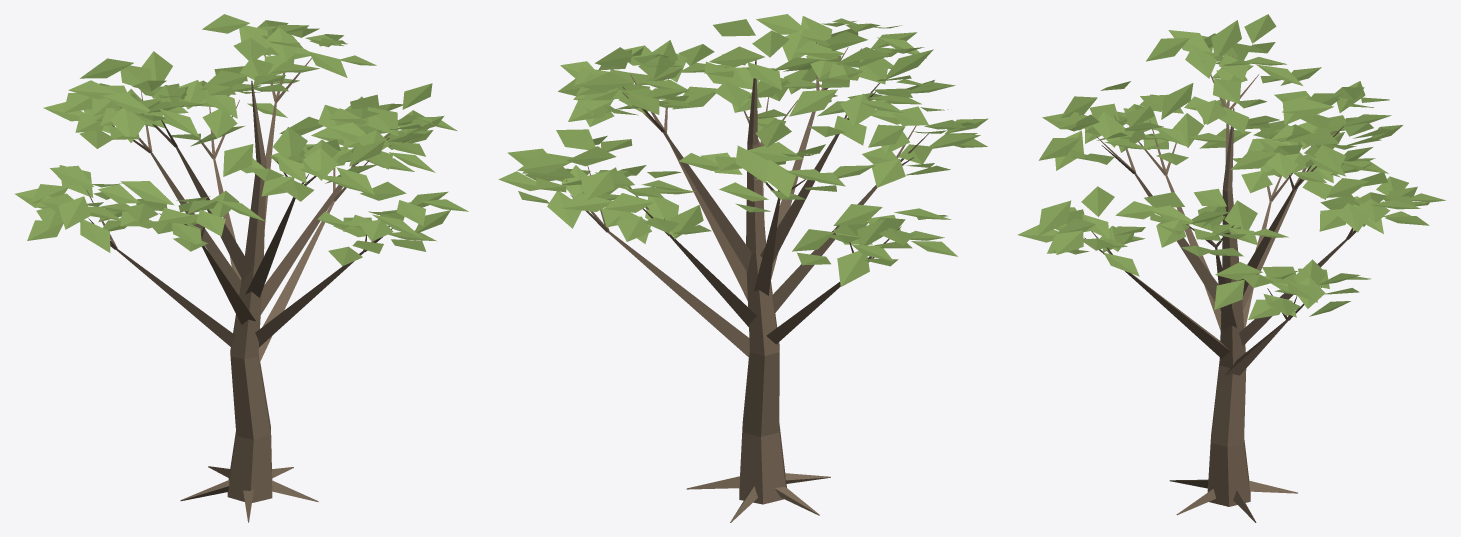
File: oak-lod1.glb
The picture shows the model from 3 angles, left to right: view 1: azimuth 30°, elevation 25°; view 2: azimuth 150°, elevation 25°; view 3: azimuth 270°, elevation 25°; orthographic projection. The views are drawn at different scales.
Visible parts, largest first — view 1: tree_oak_LOD1; view 2: tree_oak_LOD1; view 3: tree_oak_LOD1.
Part boxes in pixels (<box>): tree_oak_LOD1: <box>15,14,468,522</box>; tree_oak_LOD1: <box>498,14,988,522</box>; tree_oak_LOD1: <box>1017,14,1446,522</box>.
Bounding box in the file's own units: 11.62 × 11.51 × 10.95.
